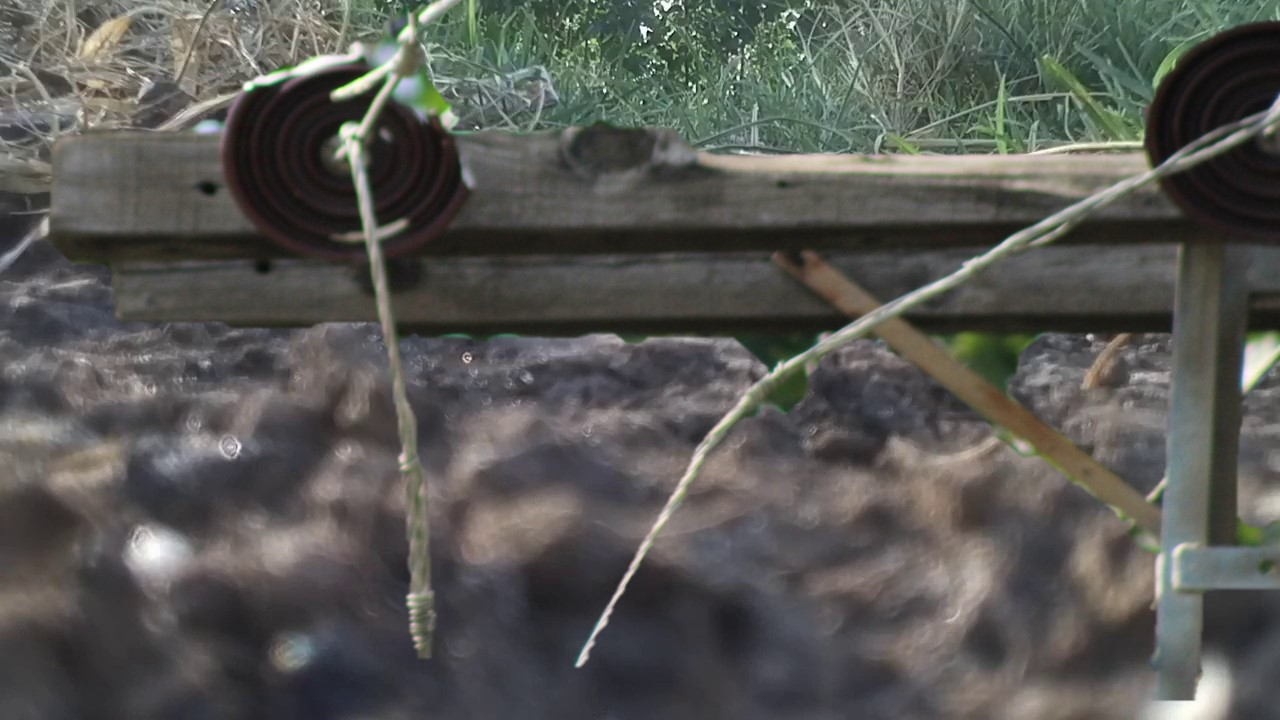defect_disc: (220, 35, 478, 273)
